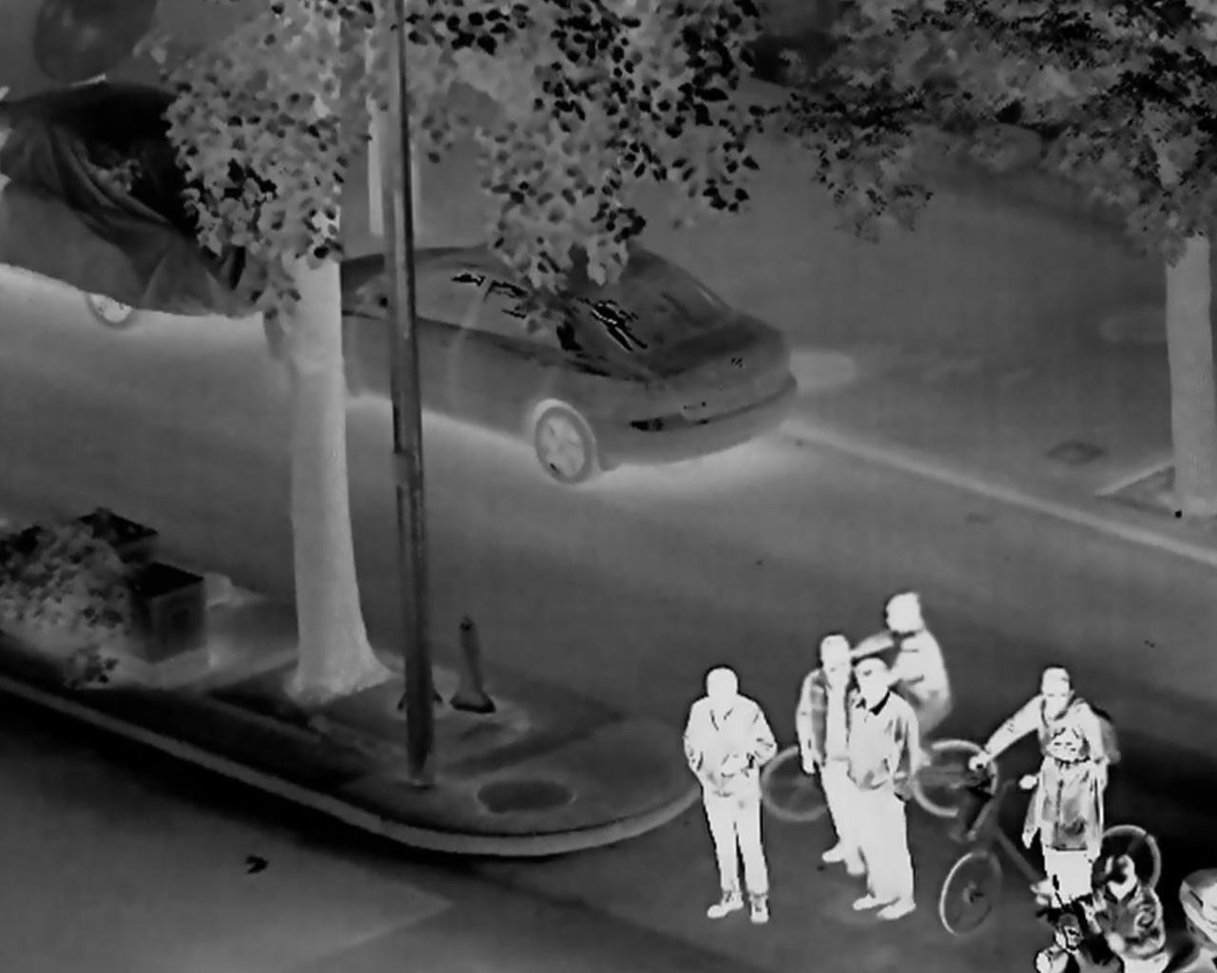person: (966, 665, 1111, 892), (682, 664, 776, 923), (845, 592, 950, 796), (841, 661, 918, 918), (796, 636, 872, 876), (1019, 729, 1096, 927), (1072, 858, 1165, 973)
